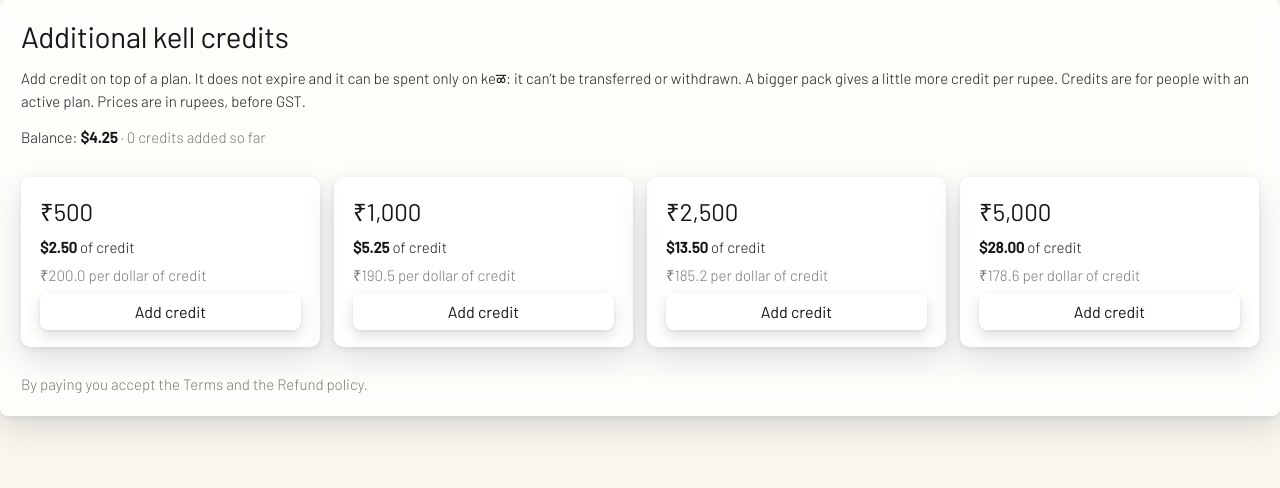
Test: buying a pack › an order the server refuses (no plan, 403) shows its sentence and never opens Checkout
Click the button "Add credit" below "200.0": (170, 311) [40,293,301,330]
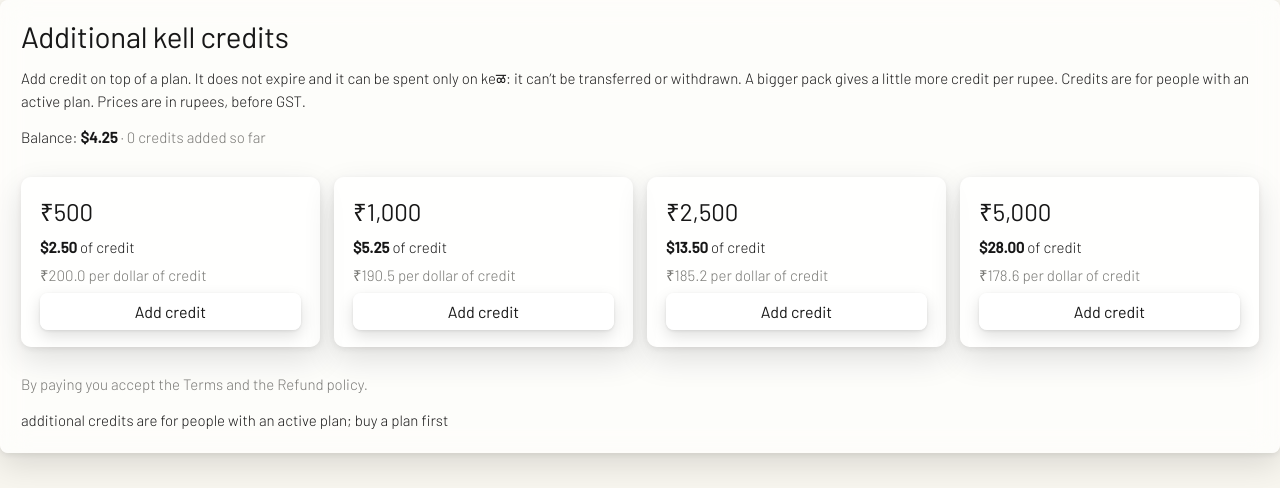
Now the text "additional credits are for people with an active plan; buy a plan first" is shown, box [21,411,448,429]
